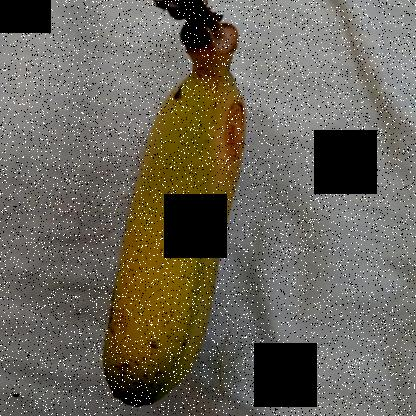ripe: (85, 67, 257, 415)
